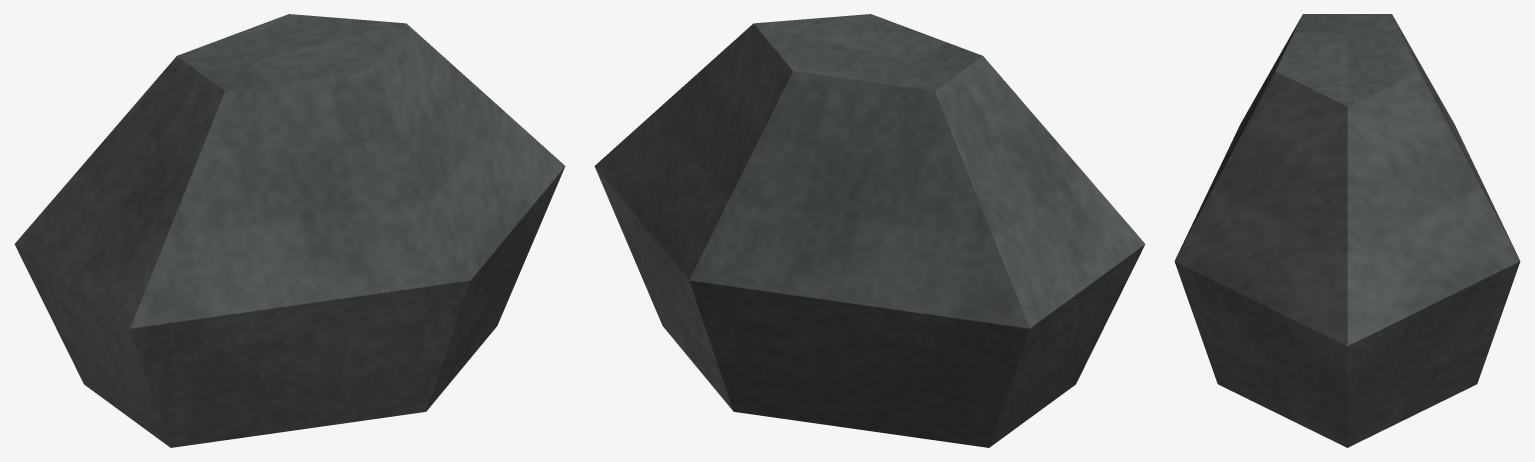
File: ENV_F_Rock_1.fbx
3 views of the same model, side by side, from view 1: azimuth 30°, elevation 25°; view 2: azimuth 150°, elevation 25°; view 3: azimuth 270°, elevation 25° (orthographic). The views are drawn at different scales.
Parts seen in each view (by area): view 1: PL_ENV_F_Rock_1; view 2: PL_ENV_F_Rock_1; view 3: PL_ENV_F_Rock_1.
Part boxes in pixels (x1,y1,x2,y2): PL_ENV_F_Rock_1: [14, 14, 565, 447]; PL_ENV_F_Rock_1: [594, 14, 1145, 447]; PL_ENV_F_Rock_1: [1174, 14, 1520, 447].
Size of the model in its own units: 243 by 153 by 160.
Materials: 1 (1 with a texture image).
